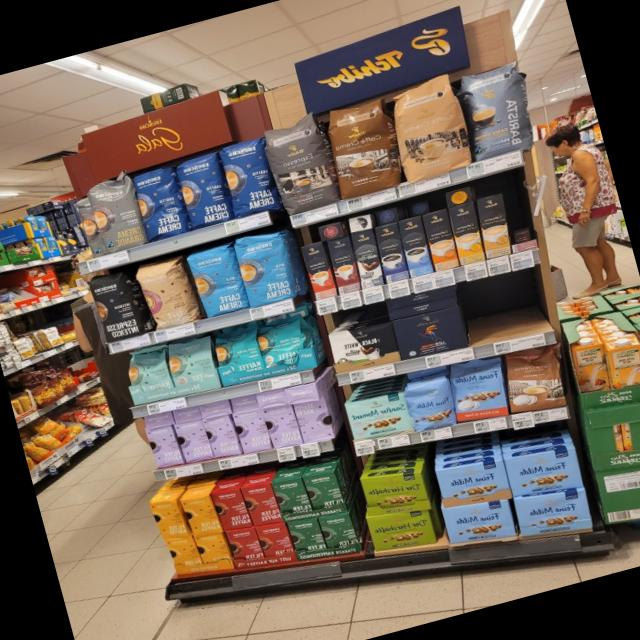BW Gemahlen: (324, 320, 400, 376)
Barista CC: (450, 54, 544, 162)
CC Mild: (379, 70, 477, 184)
CC Vollmundig: (496, 342, 576, 419)
CC Vollmundig 36 Pads: (320, 94, 409, 200)
Empty Shelf: (458, 273, 552, 346), (503, 187, 536, 244)
Espresso Aromatisch: (257, 106, 344, 218)
FM 36 Pads: (444, 354, 516, 428)
FM Bohne: (400, 374, 460, 436)
FM Gemahlen: (502, 446, 584, 498), (513, 487, 591, 536), (434, 459, 512, 507), (441, 498, 515, 543)
Herzhatfe Mundig: (359, 470, 430, 515), (364, 508, 437, 551)
LG Gemahlen: (389, 304, 471, 364)
SM Gemahlen: (342, 389, 414, 445)
Simo CCMild bigpack: (446, 202, 486, 266)
Simo CCVollmundig bigpack: (420, 208, 460, 272)
Simo Decaff: (477, 193, 511, 259)
Simo Es Brazil: (300, 240, 336, 300)
Simo Es Caramel: (325, 234, 363, 296)
Simo Es Elegant: (348, 228, 386, 288)
Simo Es Kraft: (372, 222, 410, 284)
Simo Es Vanilla: (396, 215, 433, 278)
